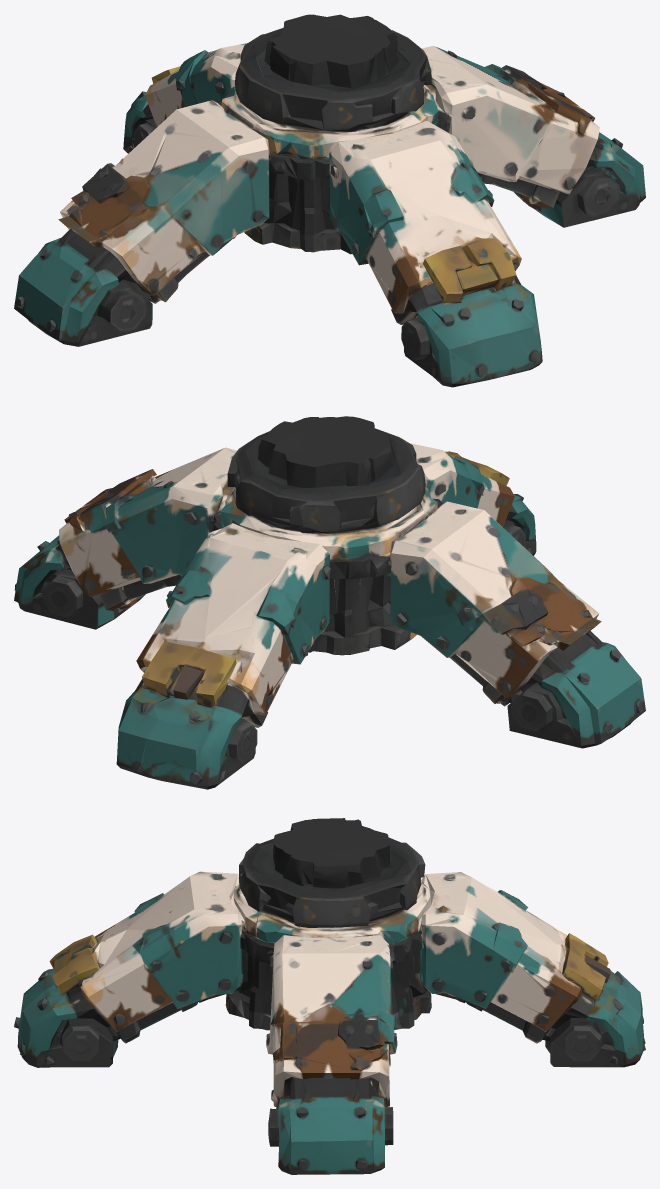
The model's file is SM_TurretBase.fbx.
The picture shows the model from 3 angles, top to bottom: view 1: azimuth 30°, elevation 25°; view 2: azimuth 150°, elevation 25°; view 3: azimuth 270°, elevation 25°; orthographic projection. The views are drawn at different scales.
Parts seen in each view (by area): view 1: SM_TurretBase; view 2: SM_TurretBase; view 3: SM_TurretBase.
Part boxes in pixels (x1=…): SM_TurretBase: x1=14, y1=14, x2=645, y2=387; SM_TurretBase: x1=14, y1=416, x2=645, y2=789; SM_TurretBase: x1=14, y1=818, x2=645, y2=1174.
Size of the model in its own units: 1.85 by 0.652 by 1.83.
